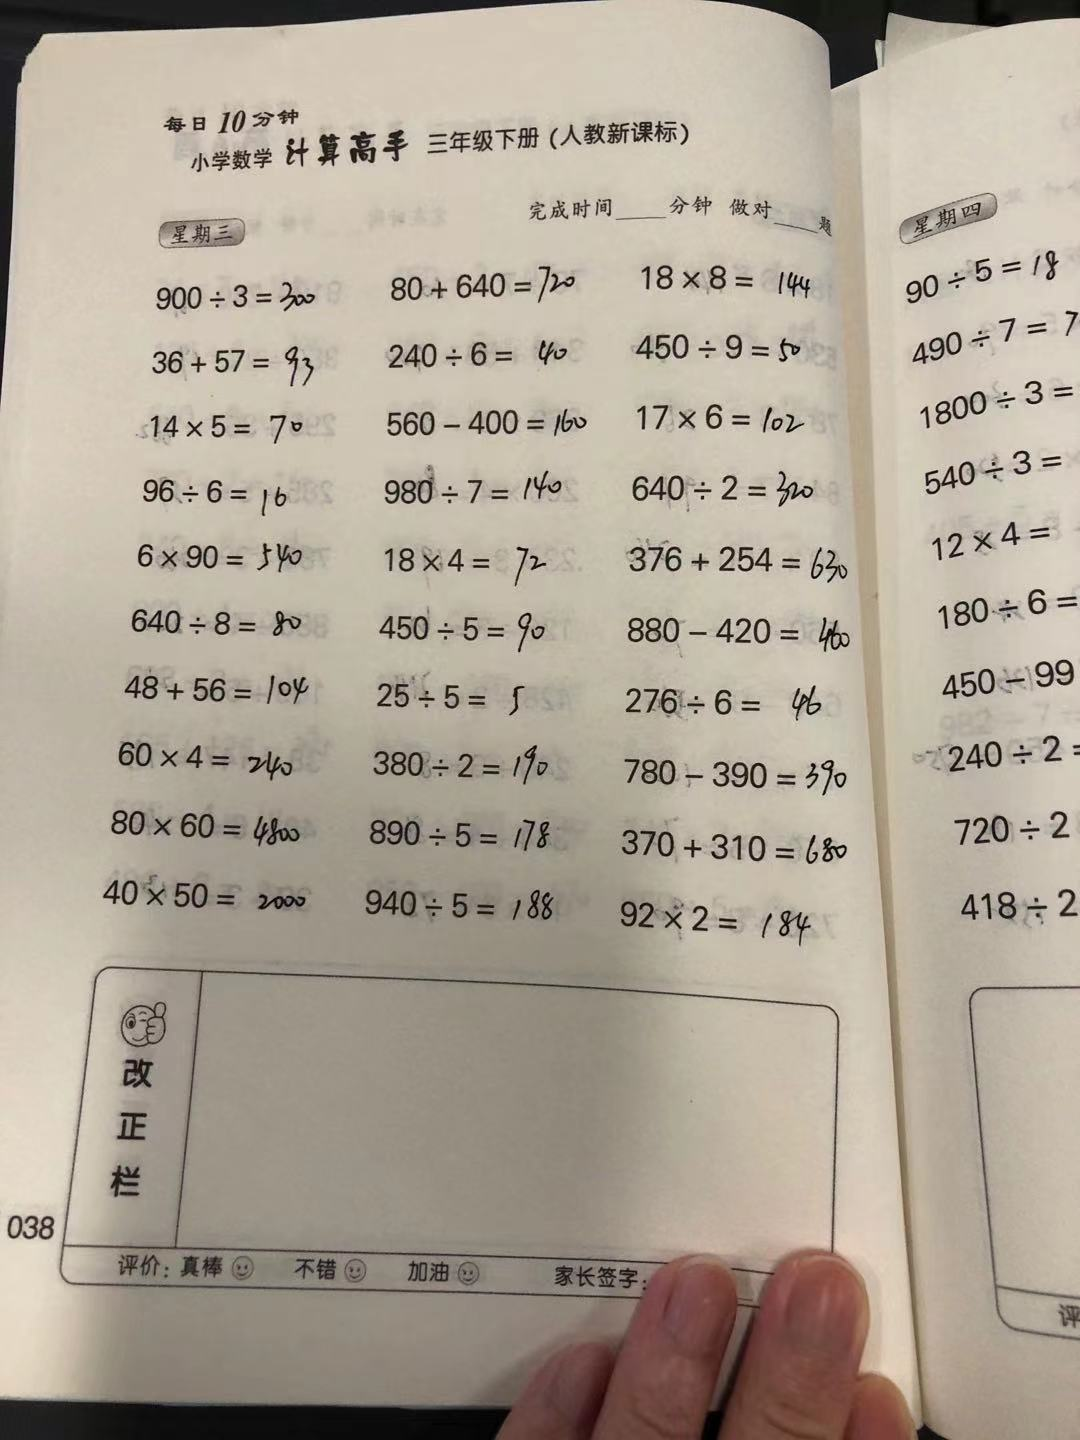equation: (607, 888, 836, 952), (613, 816, 861, 875), (613, 604, 873, 659), (365, 605, 573, 670), (625, 536, 876, 585), (610, 753, 857, 802), (384, 252, 590, 308), (613, 676, 842, 725), (99, 802, 319, 853), (364, 805, 571, 858), (627, 253, 830, 307), (119, 664, 331, 715), (99, 876, 333, 922), (357, 533, 570, 582), (357, 878, 568, 927), (101, 738, 304, 788), (148, 345, 356, 392), (382, 333, 585, 381), (117, 607, 337, 650), (627, 465, 828, 512), (374, 462, 574, 507), (368, 675, 562, 721), (627, 325, 813, 372), (628, 393, 817, 439), (379, 407, 607, 445), (373, 742, 565, 787), (134, 273, 337, 315), (124, 535, 322, 578), (134, 405, 344, 445), (128, 478, 299, 515)
